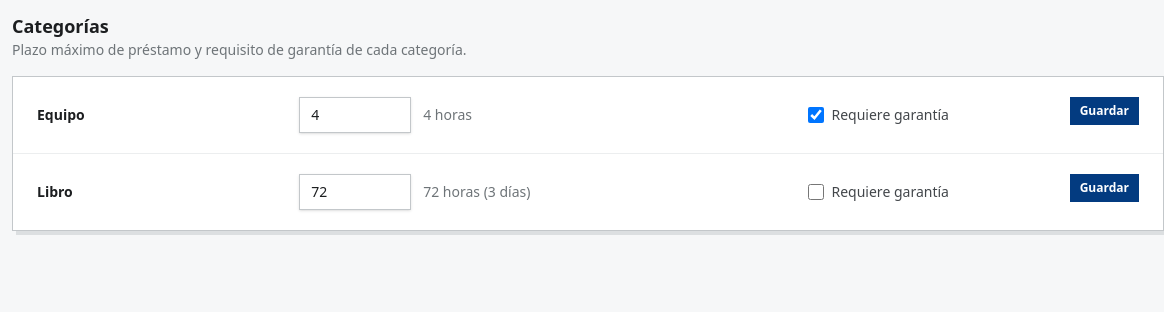
CategoriesSection › guarda los cambios de una categoría
Replace the text in the number field named "Plazo máximo en horas de Libro" with "48" at (355, 192), box [299,174,411,210]
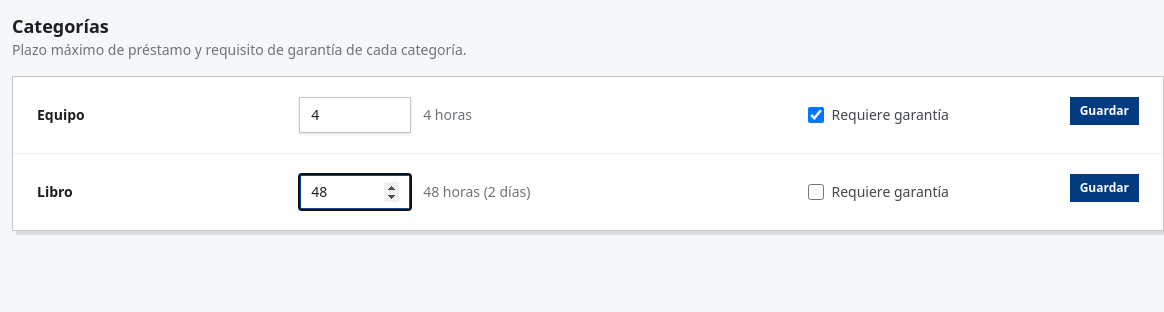
Click the checkbox named "Requiere garantía en Libro".
click(816, 192)  # box [808,184,824,200]
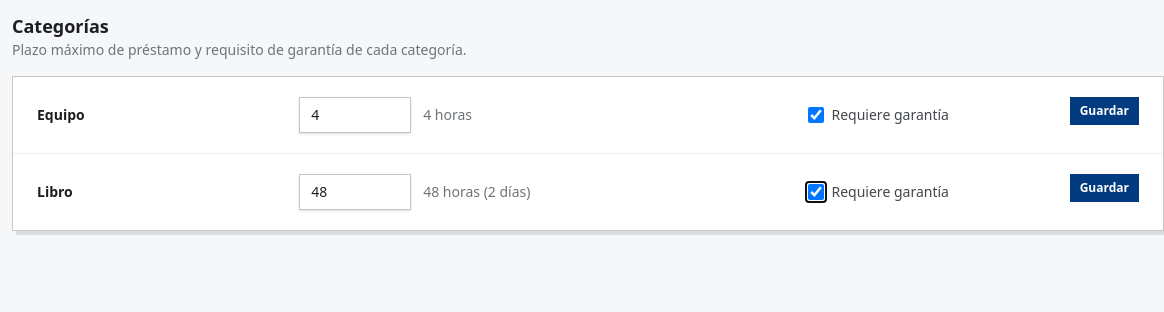
Click the button "Guardar" in the row of "48 horas (2 días)".
click(1104, 188)  # box [1070,174,1139,202]
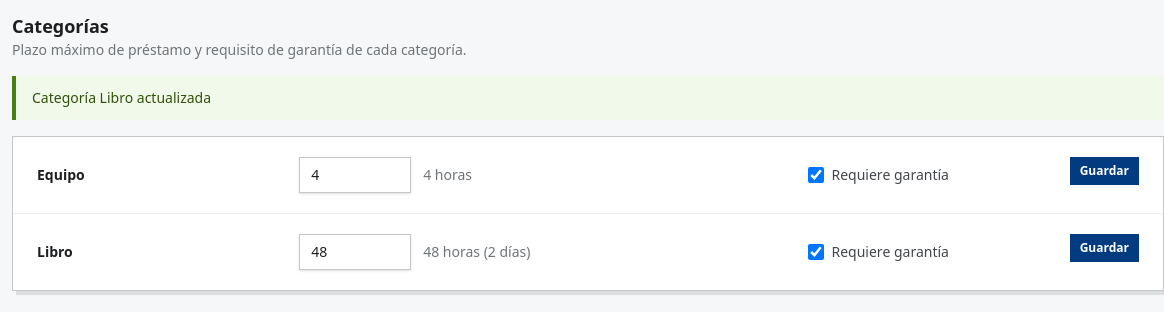
Result: the text "Categoría Libro actualizada" is shown at [12,76,1163,120]
